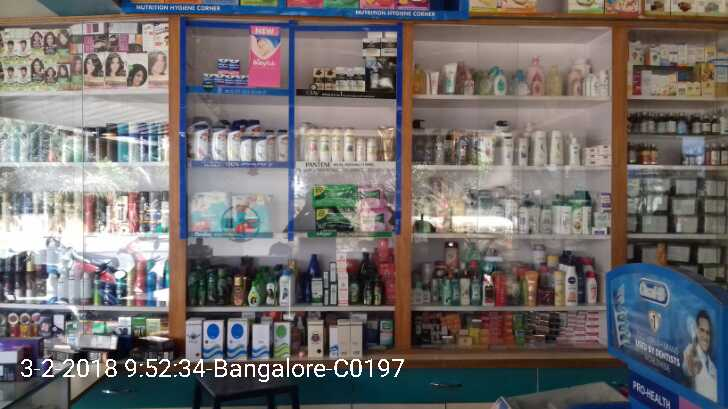beauty: (331, 123, 346, 162), (193, 122, 209, 158), (313, 68, 336, 93), (212, 127, 227, 163), (305, 124, 319, 161), (318, 128, 332, 164), (361, 36, 382, 57), (333, 67, 349, 92), (380, 35, 398, 57), (351, 64, 363, 96), (225, 128, 237, 160), (241, 135, 252, 164), (355, 138, 367, 160)
pharmacy: (186, 192, 235, 232), (232, 195, 276, 235), (312, 206, 365, 236), (313, 184, 360, 209), (357, 207, 390, 235), (201, 74, 249, 91), (357, 184, 385, 206), (215, 56, 241, 75)
